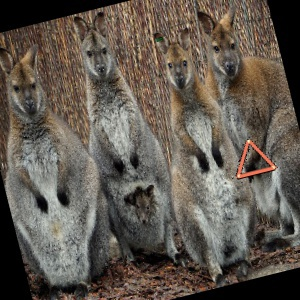triangle: (232, 136, 279, 182)
